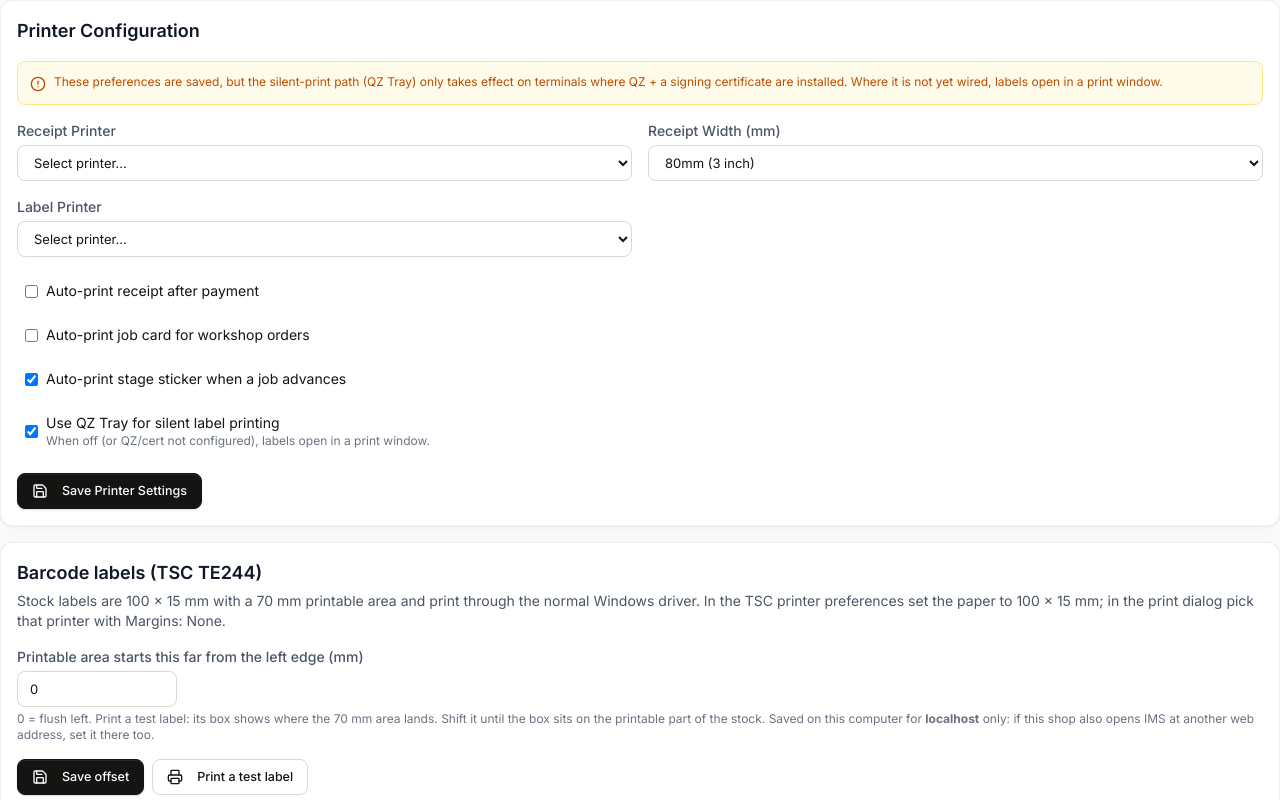
Test case: label calibration › says the offset was NOT kept when the browser blocks site data, never "saved"
Replace the text in the number field labelled "Printable area starts this far from the left edge (mm)" with "7" at (97, 689), box [17,671,177,707]
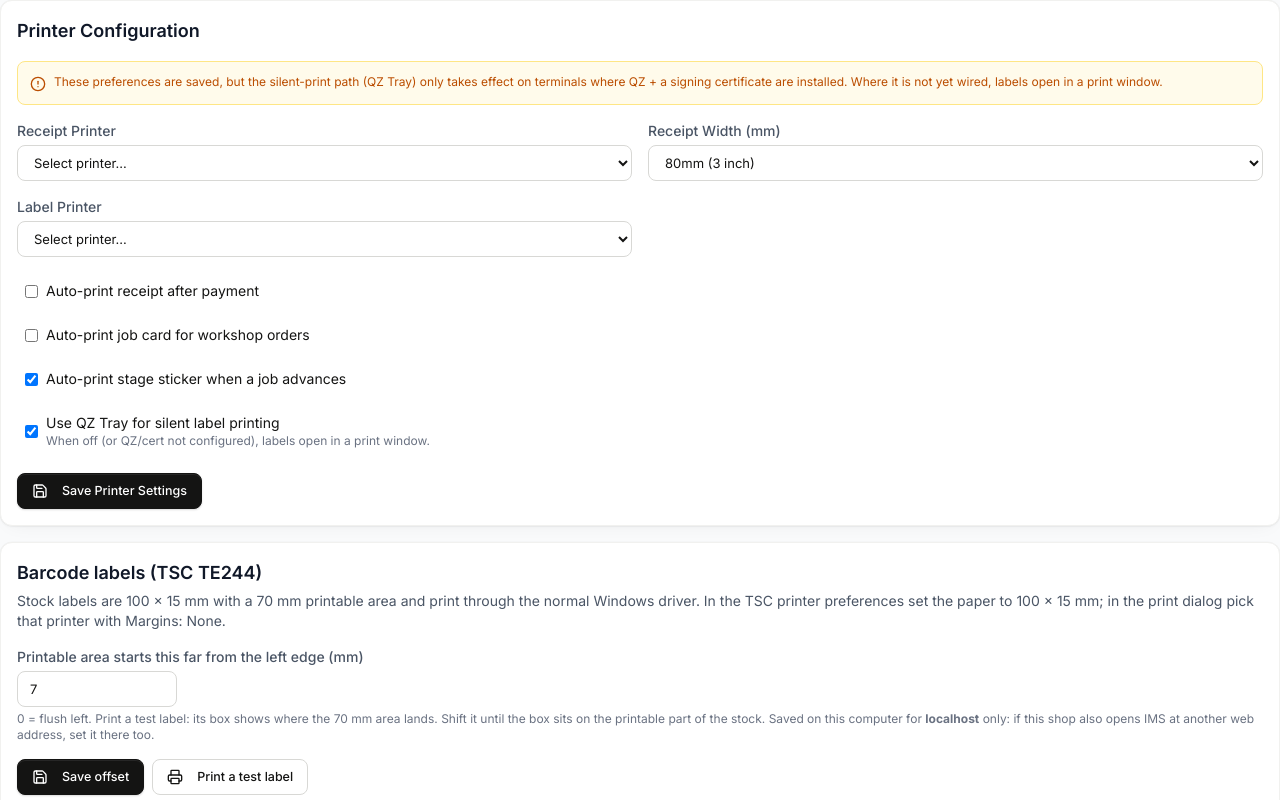
Click the button "Save offset".
click(81, 777)  # box [17,759,144,795]
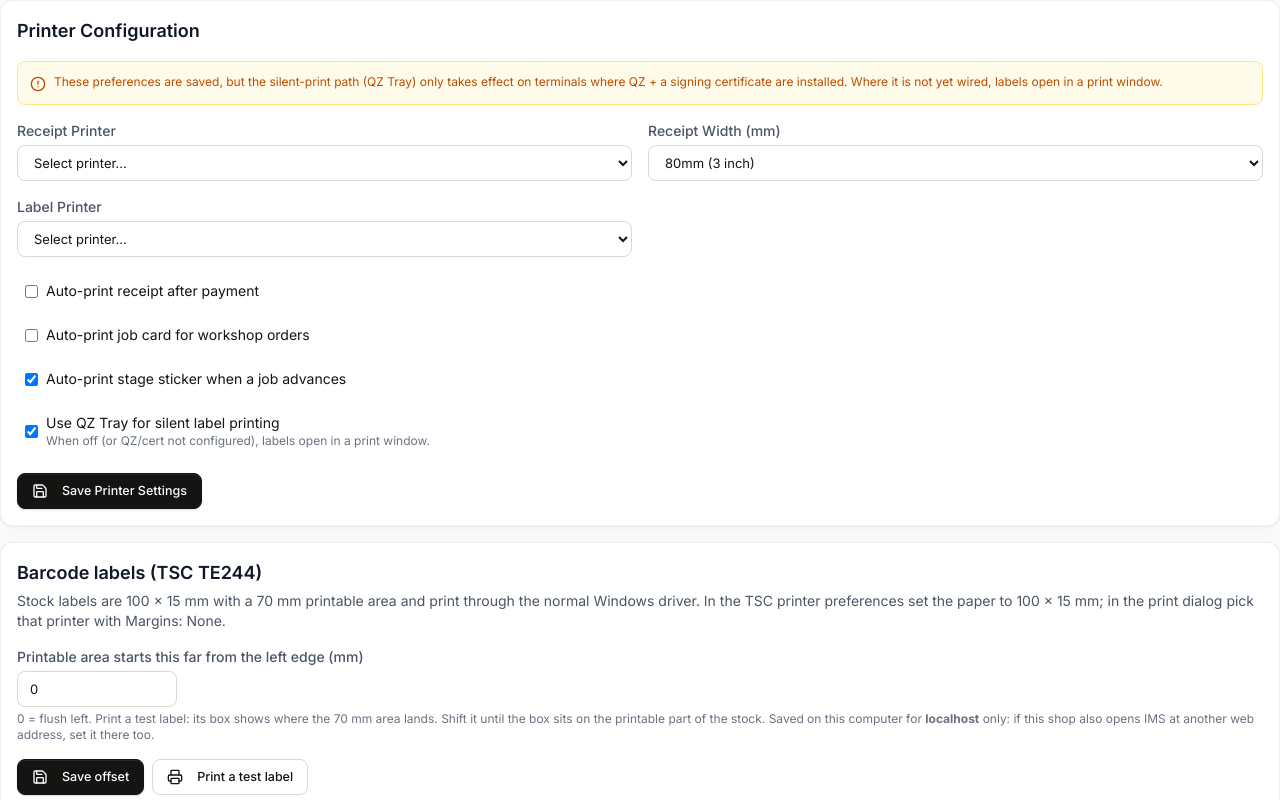
Result: the number field labelled "Printable area starts this far from the left edge (mm)" holds "0" at [17,671,177,707]
